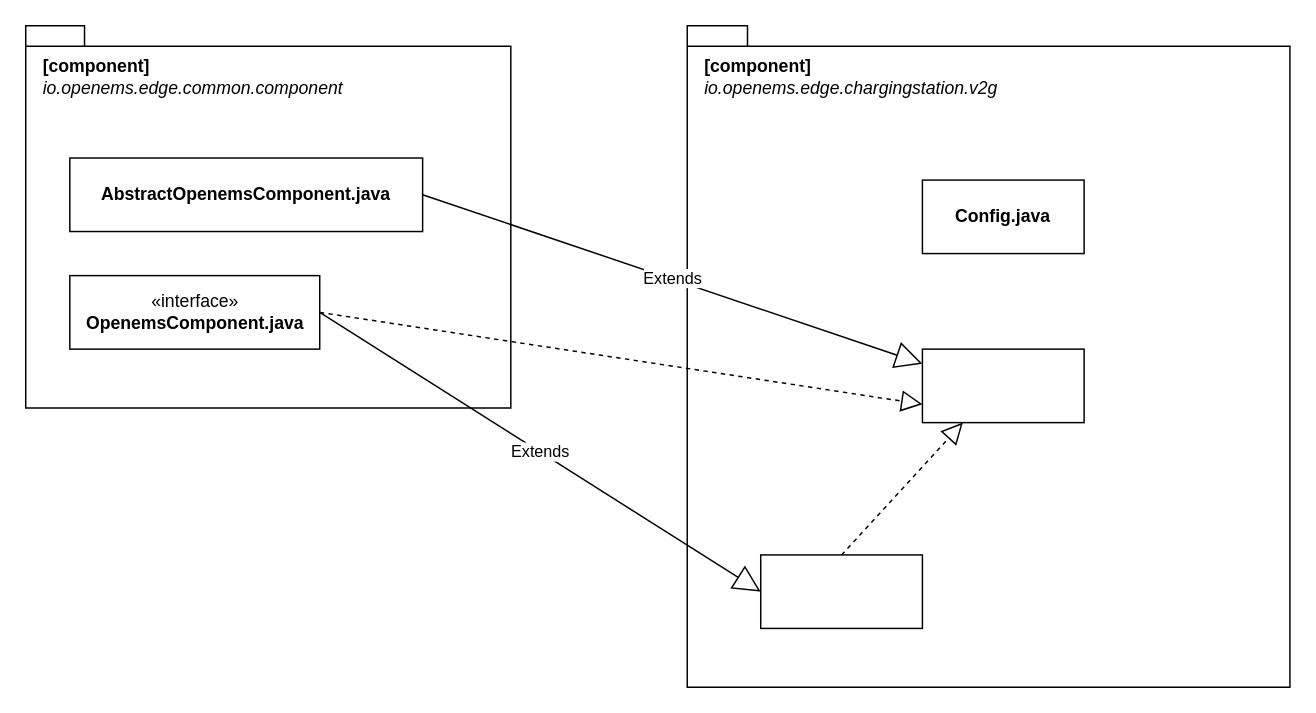
Some shapes in this 1316 by 713 pixel diagram are drawn without their labels. Here are the shapes that lost their labels. From the top down, the centre of each, then its label:
the point at 1002,385: V2GImpl.java
the point at 840,590: «interface» V2G.java
